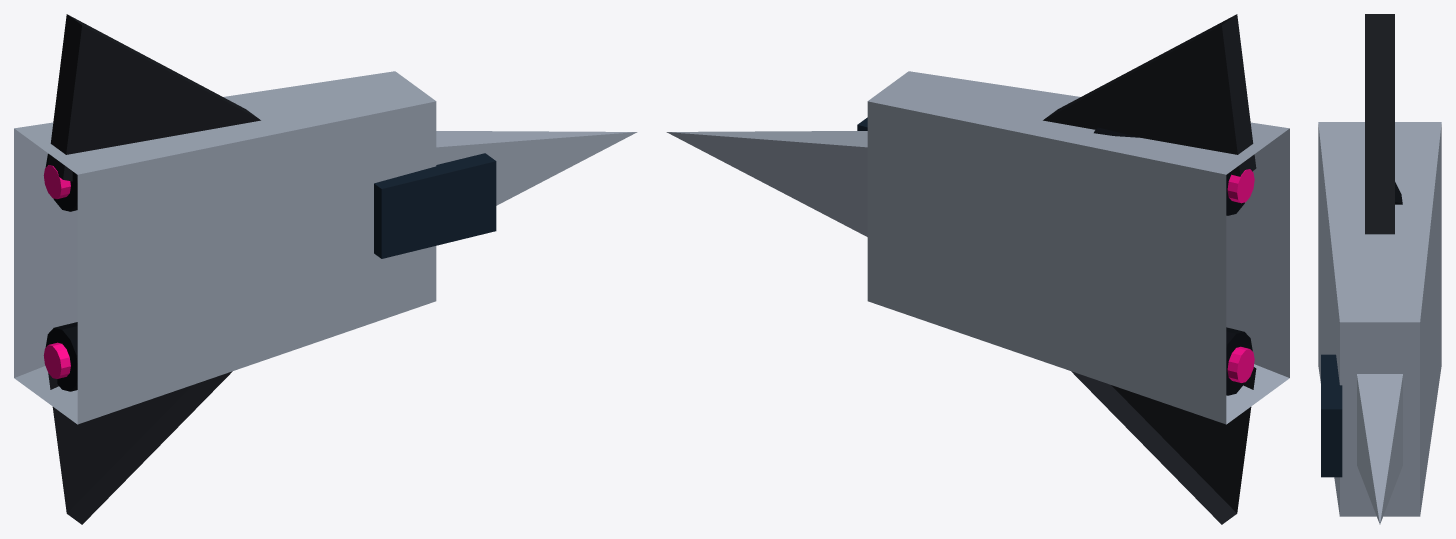
File: striker.obj
3 renders of one model, left to right at view 1: azimuth 30°, elevation 25°; view 2: azimuth 150°, elevation 25°; view 3: azimuth 270°, elevation 25°, orthographic. The views are drawn at different scales.
Visible parts, largest first — view 1: striker; view 2: striker; view 3: striker.
Part boxes in pixels (x1,y1,x2,y2): striker: (14, 14, 637, 524); striker: (666, 14, 1289, 524); striker: (1318, 14, 1441, 524).
Bounding box in the file's own units: 6.2 × 5 × 1.15.
